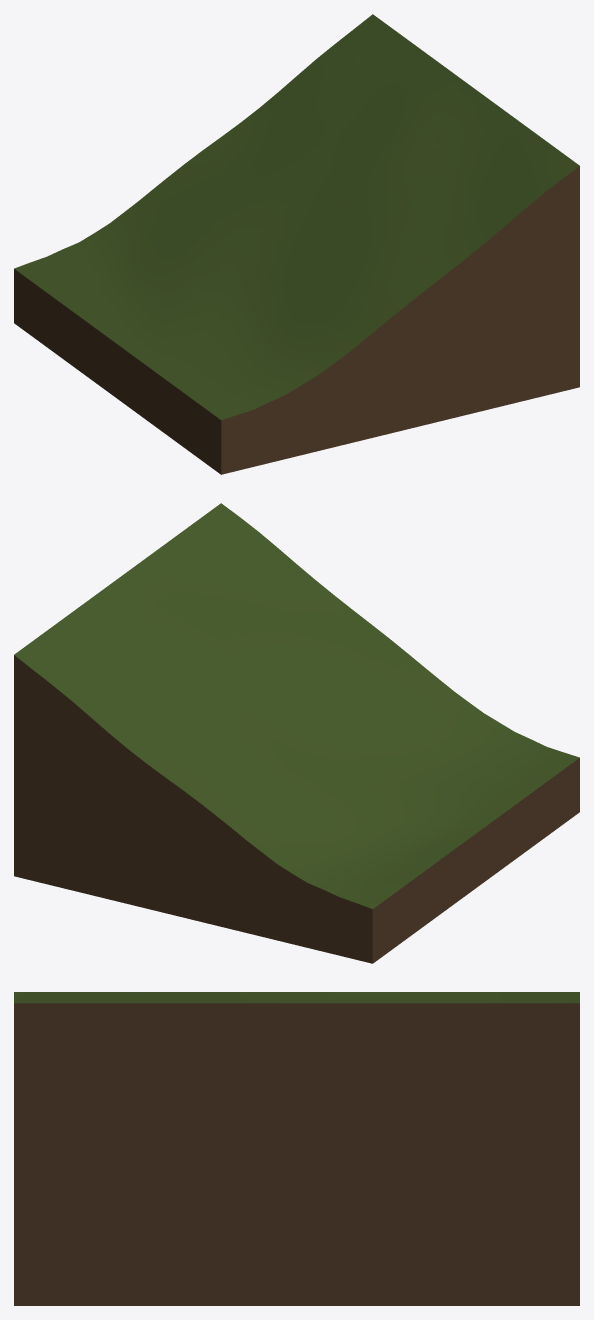
3 renders of one model, top to bottom at view 1: azimuth 30°, elevation 25°; view 2: azimuth 150°, elevation 25°; view 3: azimuth 270°, elevation 25°, orthographic. The views are drawn at different scales.
Parts seen in each view (by area): view 1: d2go; view 2: d2go; view 3: d2go.
Part boxes in pixels (bbox=[...]): d2go: bbox=[14, 14, 579, 474]; d2go: bbox=[14, 503, 579, 963]; d2go: bbox=[14, 992, 579, 1305].
Bounding box in the file's own units: 9 × 5.31 × 9.
